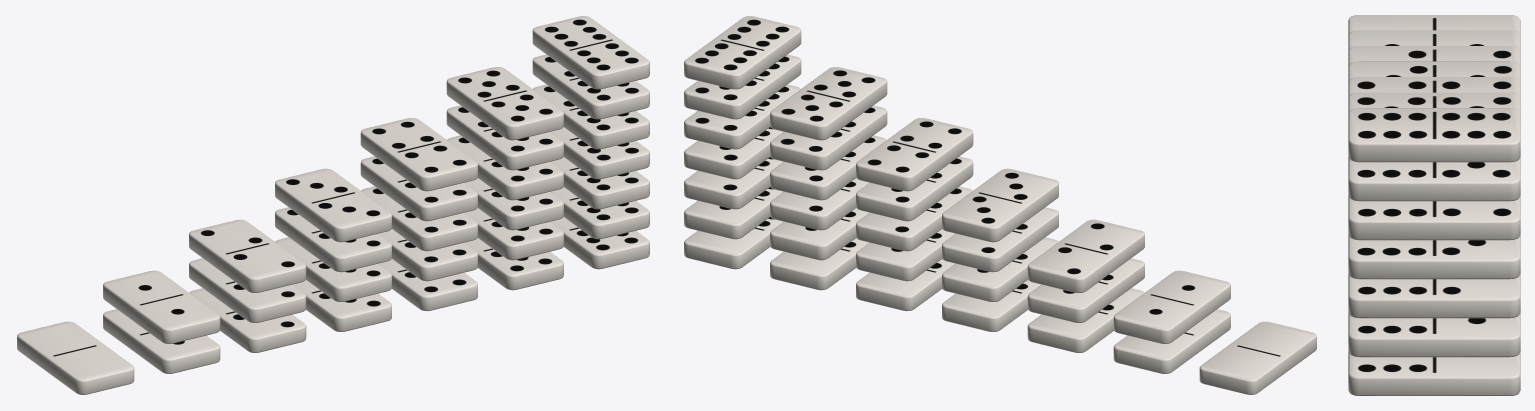
The model's file is dominoes2.glb.
3 renders of one model, left to right at view 1: azimuth 30°, elevation 25°; view 2: azimuth 150°, elevation 25°; view 3: azimuth 270°, elevation 25°, orthographic. The views are drawn at different scales.
Visible parts, largest first — view 1: domino_root_6_6, domino_root_0_0, domino_root_5_5, domino_root_4_4, domino_root_2_2, domino_root_1_1, domino_root_3_3, domino_root_5_6, domino_root_4_5, domino_root_3_4, domino_root_1_2, domino_root_0_1 (+16 smaller); view 2: domino_root_6_6, domino_root_0_0, domino_root_5_5, domino_root_4_4, domino_root_2_2, domino_root_1_1, domino_root_3_3, domino_root_5_6, domino_root_4_5, domino_root_3_4, domino_root_1_2, domino_root_0_1 (+16 smaller); view 3: domino_root_6_6, domino_root_5_6, domino_root_4_6, domino_root_3_6, domino_root_2_6, domino_root_1_6, domino_root_0_6, domino_root_3_3, domino_root_5_5, domino_root_1_1, domino_root_4_4, domino_root_2_2 (+1 smaller).
Boxes of the visible parts, bbox=[...] form: domino_root_6_6: bbox=[532, 16, 649, 89]; domino_root_0_0: bbox=[17, 321, 134, 394]; domino_root_5_5: bbox=[446, 67, 563, 140]; domino_root_4_4: bbox=[360, 118, 477, 191]; domino_root_2_2: bbox=[189, 219, 306, 292]; domino_root_1_1: bbox=[103, 270, 220, 343]; domino_root_3_3: bbox=[275, 168, 391, 242]; domino_root_5_6: bbox=[532, 54, 649, 119]; domino_root_4_5: bbox=[446, 105, 563, 170]; domino_root_3_4: bbox=[360, 156, 477, 221]; domino_root_1_2: bbox=[189, 258, 306, 322]; domino_root_0_1: bbox=[103, 309, 220, 373]; domino_root_6_6: bbox=[684, 16, 801, 89]; domino_root_0_0: bbox=[1199, 321, 1316, 394]; domino_root_5_5: bbox=[770, 67, 887, 140]; domino_root_4_4: bbox=[856, 118, 973, 191]; domino_root_2_2: bbox=[1027, 219, 1144, 292]; domino_root_1_1: bbox=[1113, 270, 1230, 343]; domino_root_3_3: bbox=[942, 168, 1058, 242]; domino_root_5_6: bbox=[684, 54, 801, 119]; domino_root_4_5: bbox=[770, 105, 887, 170]; domino_root_3_4: bbox=[856, 156, 973, 221]; domino_root_1_2: bbox=[1027, 258, 1144, 322]; domino_root_0_1: bbox=[1113, 309, 1230, 373]; domino_root_6_6: bbox=[1348, 108, 1520, 162]; domino_root_5_6: bbox=[1348, 157, 1520, 201]; domino_root_4_6: bbox=[1348, 196, 1520, 240]; domino_root_3_6: bbox=[1348, 235, 1520, 279]; domino_root_2_6: bbox=[1348, 274, 1520, 318]; domino_root_1_6: bbox=[1348, 313, 1520, 357]; domino_root_0_6: bbox=[1348, 352, 1520, 395]; domino_root_3_3: bbox=[1348, 61, 1520, 82]; domino_root_5_5: bbox=[1348, 92, 1520, 113]; domino_root_1_1: bbox=[1348, 30, 1520, 51]; domino_root_4_4: bbox=[1348, 77, 1520, 97]; domino_root_2_2: bbox=[1348, 46, 1520, 66].
Bounding box in the file's own units: 20 × 6.5 × 4.
3 materials, 2 textured.
